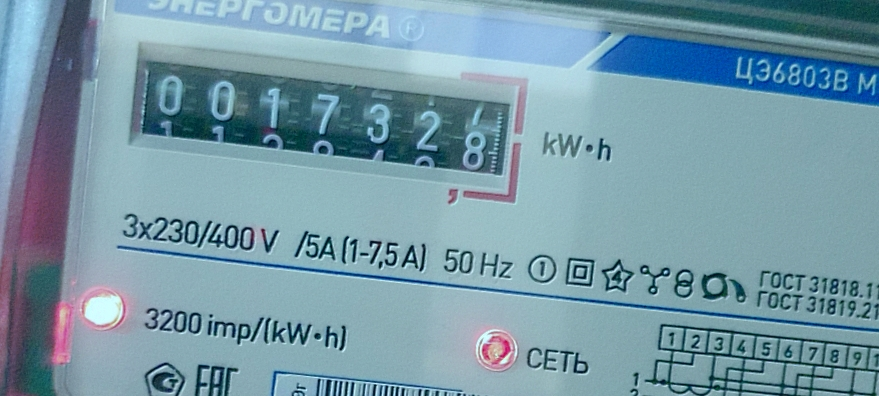0: (153, 72, 190, 119), (207, 76, 241, 124)
1: (260, 83, 287, 131)
2: (411, 107, 446, 155)
3: (363, 100, 395, 146)
7: (310, 90, 342, 139)
8: (459, 128, 489, 173)
screen: (116, 34, 538, 210)
